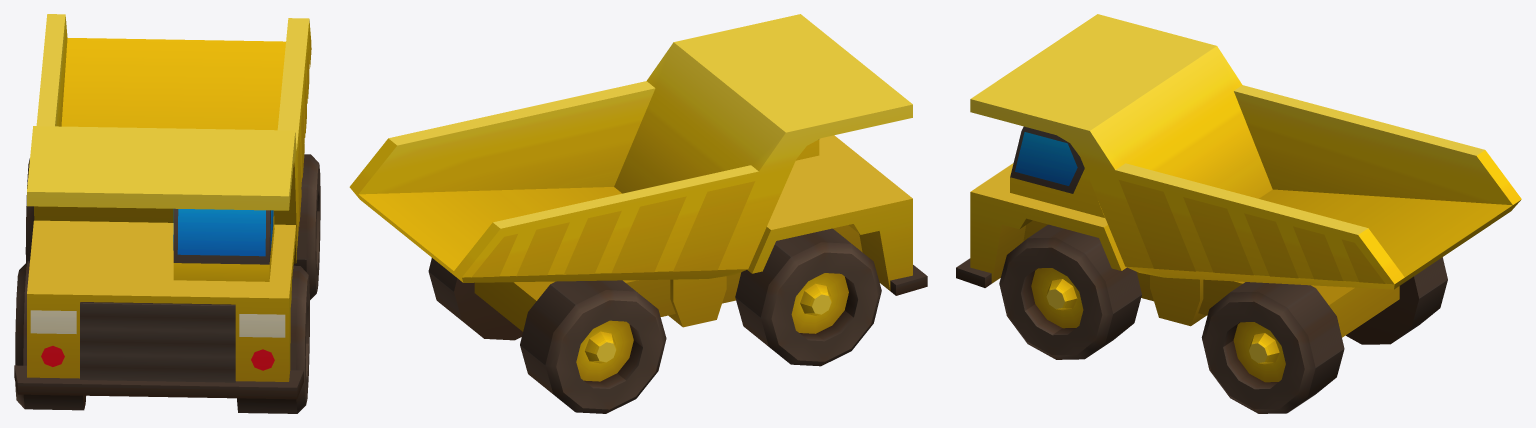
The model's file is Truck toy break.fbx.
3 views of the same model, side by side, from view 1: azimuth 30°, elevation 25°; view 2: azimuth 150°, elevation 25°; view 3: azimuth 270°, elevation 25° (orthographic). The views are drawn at different scales.
Parts seen in each view (by area): view 1: Truck toy, Truck toy.001, Truck toy.002, Truck toy.004, Truck toy.003; view 2: Truck toy, Truck toy.003, Truck toy.004, Truck toy.002; view 3: Truck toy, Truck toy.002, Truck toy.001, Truck toy.003.
Part boxes in pixels (x1,y1,x2,y2): Truck toy: [14, 14, 311, 399]; Truck toy.001: [237, 265, 309, 413]; Truck toy.002: [293, 154, 320, 299]; Truck toy.004: [15, 261, 85, 410]; Truck toy.003: [25, 158, 34, 262]; Truck toy: [349, 14, 927, 331]; Truck toy.003: [520, 280, 666, 413]; Truck toy.004: [735, 228, 881, 366]; Truck toy.002: [428, 258, 522, 340]; Truck toy: [956, 14, 1521, 337]; Truck toy.002: [1201, 282, 1344, 413]; Truck toy.001: [999, 224, 1141, 359]; Truck toy.003: [1346, 257, 1447, 344].
Bounding box in the file's own units: 28.44 × 15.32 × 33.35.
